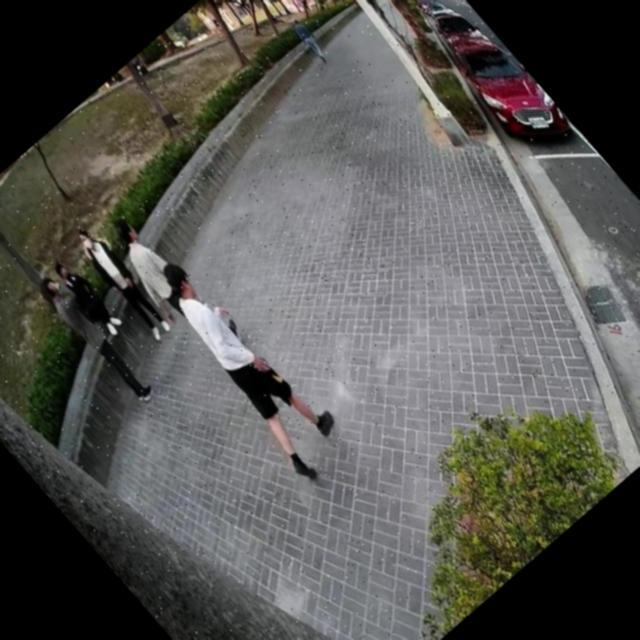person: (130, 241, 362, 492), (29, 264, 161, 410), (90, 208, 209, 336), (64, 215, 180, 344), (43, 252, 129, 344), (284, 12, 336, 66)
